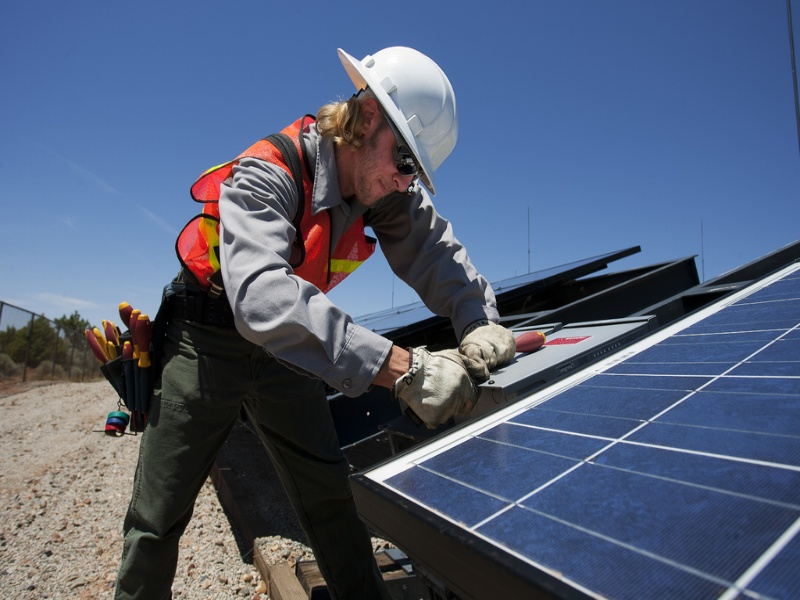Baret: (337, 43, 464, 193)
